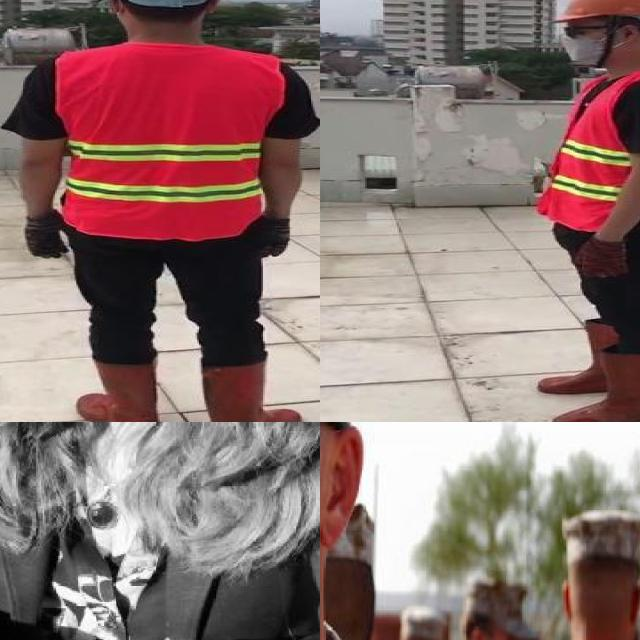No_Ear-Protection: (320, 422, 366, 548)
boots: (197, 360, 300, 422), (536, 319, 621, 393), (553, 350, 640, 422), (76, 357, 165, 422)
face_mask: (557, 22, 623, 66)
glasses: (557, 19, 602, 41)
hand_glove: (25, 212, 71, 260), (574, 238, 628, 278), (254, 217, 293, 259)
head_helmet: (550, 0, 640, 24)
head_nohelmet: (552, 491, 640, 574), (468, 570, 536, 631)
person: (0, 0, 320, 422), (0, 422, 320, 640), (518, 0, 640, 422), (320, 422, 525, 640), (489, 508, 640, 640), (429, 571, 529, 640)
vest: (50, 45, 272, 237), (541, 69, 640, 233)
